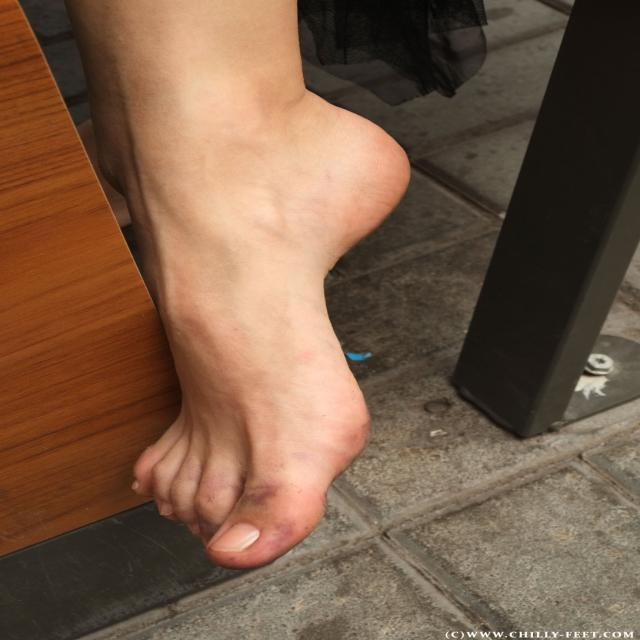Barefoots: (132, 104, 412, 566)
